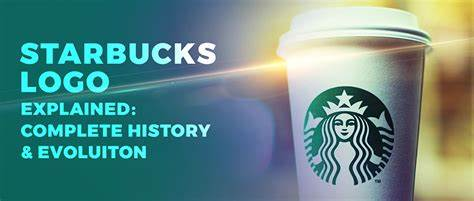starbucks Originale: (300, 77, 402, 189)
